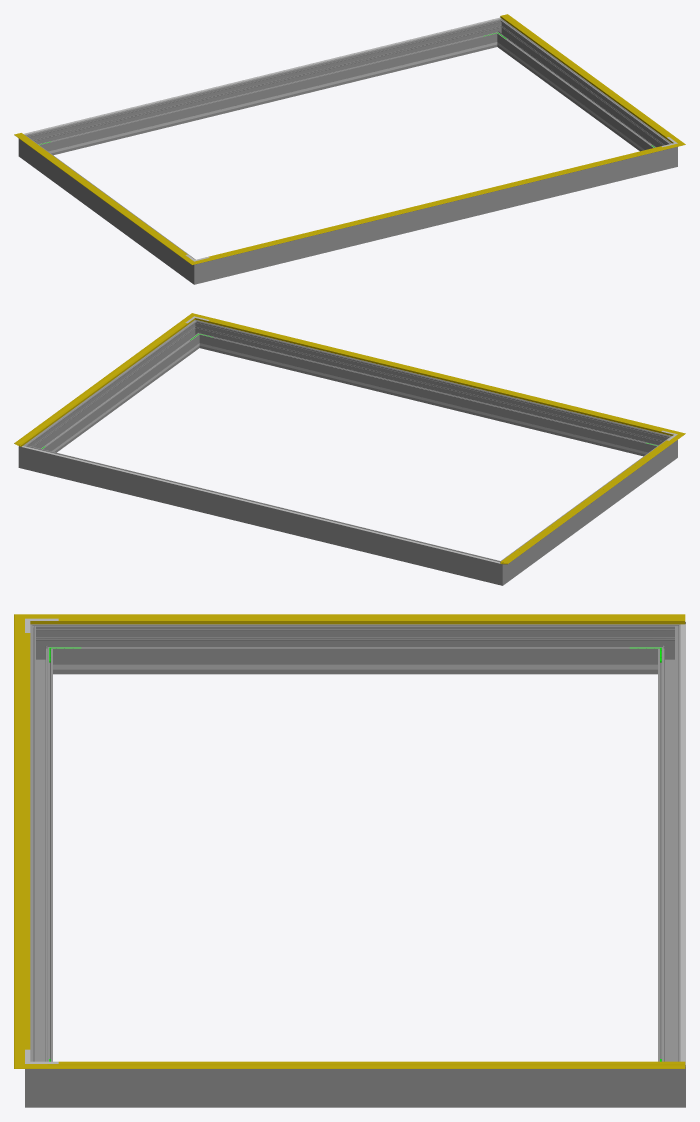
The picture shows the model from 3 angles, top to bottom: view 1: azimuth 30°, elevation 25°; view 2: azimuth 150°, elevation 25°; view 3: azimuth 270°, elevation 25°; orthographic projection. The views are drawn at different scales.
Parts seen in each view (by area): view 1: 3DGeom-276, 3DGeom-298, 3DGeom-297, 3DGeom-268, 3DGeom-141, 3DGeom-244, 3DGeom-145, 3DGeom-147, 3DGeom-220, 3DGeom-158, 3DGeom-152, 3DGeom-154 (+2 smaller); view 2: 3DGeom-298, 3DGeom-276, 3DGeom-297, 3DGeom-268, 3DGeom-141, 3DGeom-239, 3DGeom-145, 3DGeom-147, 3DGeom-220, 3DGeom-158, 3DGeom-278, 3DGeom-152 (+3 smaller); view 3: 3DGeom-268, 3DGeom-297, 3DGeom-298, 3DGeom-276, 3DGeom-147, 3DGeom-141, 3DGeom-232, 3DGeom-145, 3DGeom-220, 3DGeom-158, 3DGeom-152, 3DGeom-154 (+4 smaller).
Boxes of the visible parts, box(x1,y1,x2,y2) form: 3DGeom-276: box(35, 21, 494, 155); 3DGeom-298: box(209, 150, 662, 280); 3DGeom-297: box(498, 24, 666, 151); 3DGeom-268: box(27, 140, 189, 277); 3DGeom-141: box(205, 146, 670, 261); 3DGeom-244: box(54, 45, 482, 152); 3DGeom-145: box(500, 14, 676, 141); 3DGeom-147: box(14, 133, 187, 258); 3DGeom-220: box(23, 17, 501, 134); 3DGeom-158: box(208, 146, 661, 257); 3DGeom-152: box(501, 15, 668, 137); 3DGeom-154: box(19, 133, 187, 254); 3DGeom-298: box(202, 323, 661, 456); 3DGeom-276: box(34, 448, 489, 581); 3DGeom-297: box(30, 325, 197, 452); 3DGeom-268: box(507, 441, 669, 578); 3DGeom-141: box(203, 317, 669, 434); 3DGeom-239: box(214, 347, 642, 453); 3DGeom-145: box(14, 319, 190, 446); 3DGeom-147: box(500, 439, 676, 564); 3DGeom-220: box(22, 446, 500, 563); 3DGeom-158: box(208, 320, 662, 431); 3DGeom-278: box(487, 556, 511, 585); 3DGeom-152: box(19, 323, 187, 444); 3DGeom-268: box(58, 624, 652, 674); 3DGeom-297: box(58, 1069, 652, 1107); 3DGeom-298: box(30, 636, 52, 1061); 3DGeom-276: box(658, 636, 680, 1061); 3DGeom-147: box(47, 614, 685, 624); 3DGeom-141: box(14, 628, 24, 1054); 3DGeom-232: box(85, 664, 625, 669); 3DGeom-145: box(47, 1064, 685, 1068); 3DGeom-220: box(680, 624, 685, 1064); 3DGeom-158: box(25, 633, 30, 1049); 3DGeom-152: box(58, 1061, 685, 1063); 3DGeom-154: box(58, 618, 685, 620).
Bounding box in the file's own units: 4.88 × 0.2195 × 3.05.
